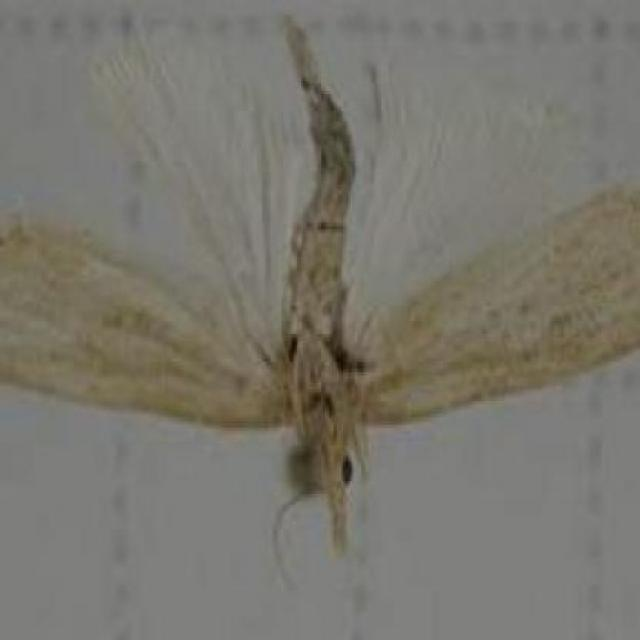stem-borer: (0, 32, 640, 552)
